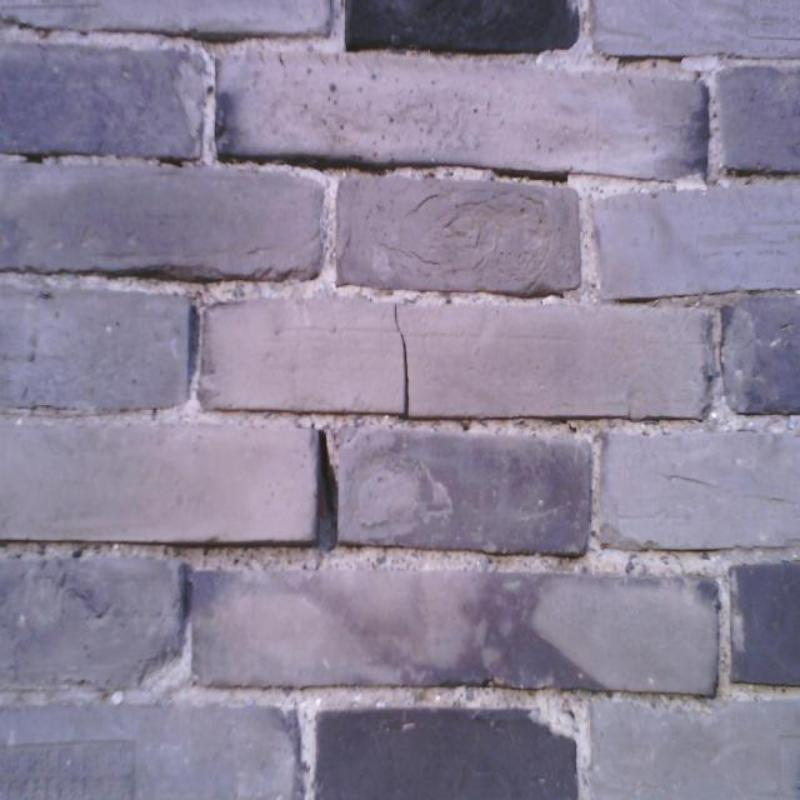pothole: (393, 305, 410, 416), (318, 431, 335, 530), (492, 168, 568, 181), (309, 162, 391, 171)
